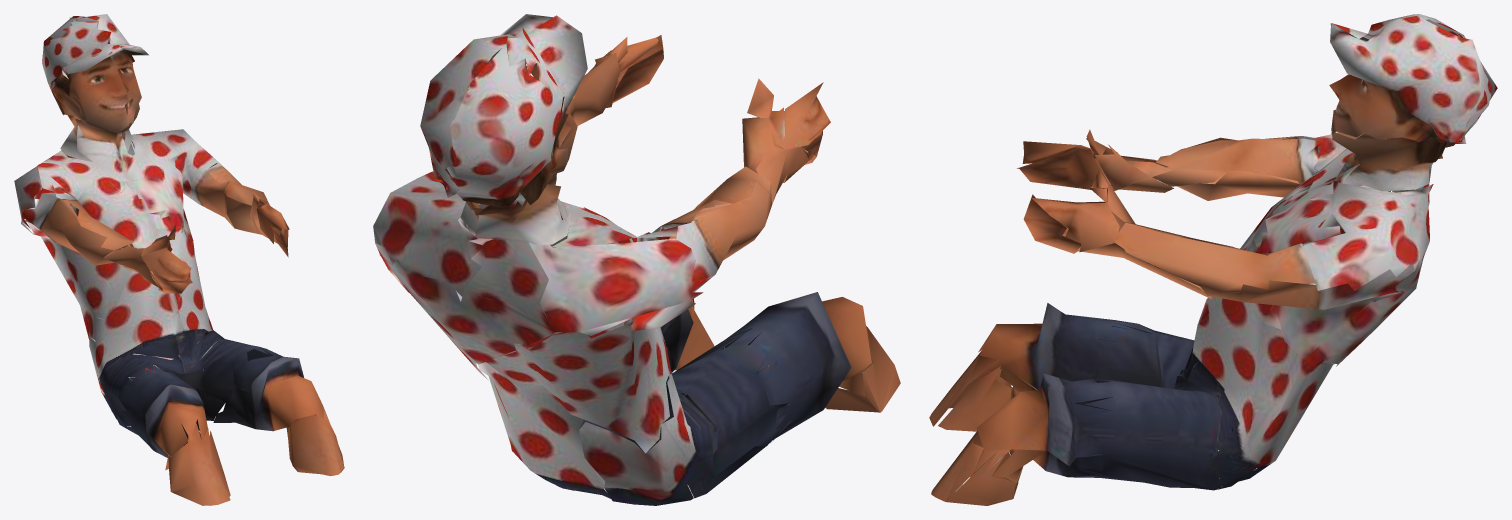
The model's file is fan_pois.glb.
3 renders of one model, left to right at view 1: azimuth 30°, elevation 25°; view 2: azimuth 150°, elevation 25°; view 3: azimuth 270°, elevation 25°, orthographic. The views are drawn at different scales.
Parts seen in each view (by area): view 1: driver; view 2: driver; view 3: driver.
Part boxes in pixels (left/top/right/bottom): driver: left=14, top=14, right=344, bottom=505; driver: left=373, top=14, right=900, bottom=505; driver: left=929, top=14, right=1497, bottom=505.
Size of the model in its own units: 0.5791 by 0.9221 by 1.08.
Materials: 1 (1 with a texture image).
